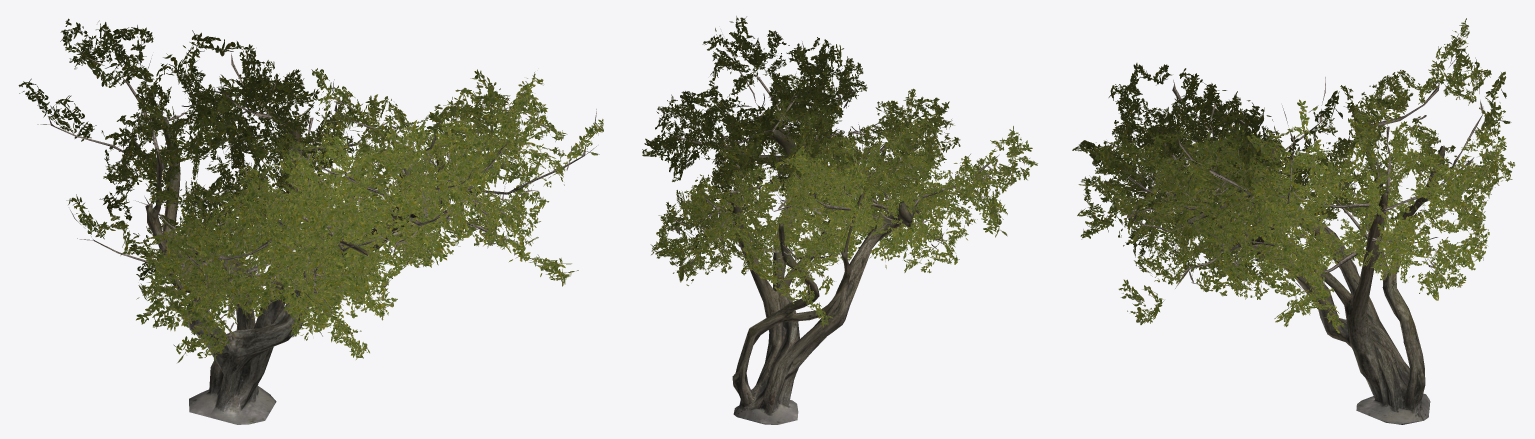
3 views of the same model, side by side, from view 1: azimuth 30°, elevation 25°; view 2: azimuth 150°, elevation 25°; view 3: azimuth 270°, elevation 25° (orthographic). The views are drawn at different scales.
Parts seen in each view (by area): view 1: island_tree_02_lod1; view 2: island_tree_02_lod1; view 3: island_tree_02_lod1.
Part boxes in pixels (x1,y1,x2,y2): island_tree_02_lod1: (18, 18, 603, 424); island_tree_02_lod1: (642, 16, 1037, 424); island_tree_02_lod1: (1072, 18, 1515, 424).
Size of the model in its own units: 3.94 by 3.42 by 4.14.
3 materials, 3 textured.
